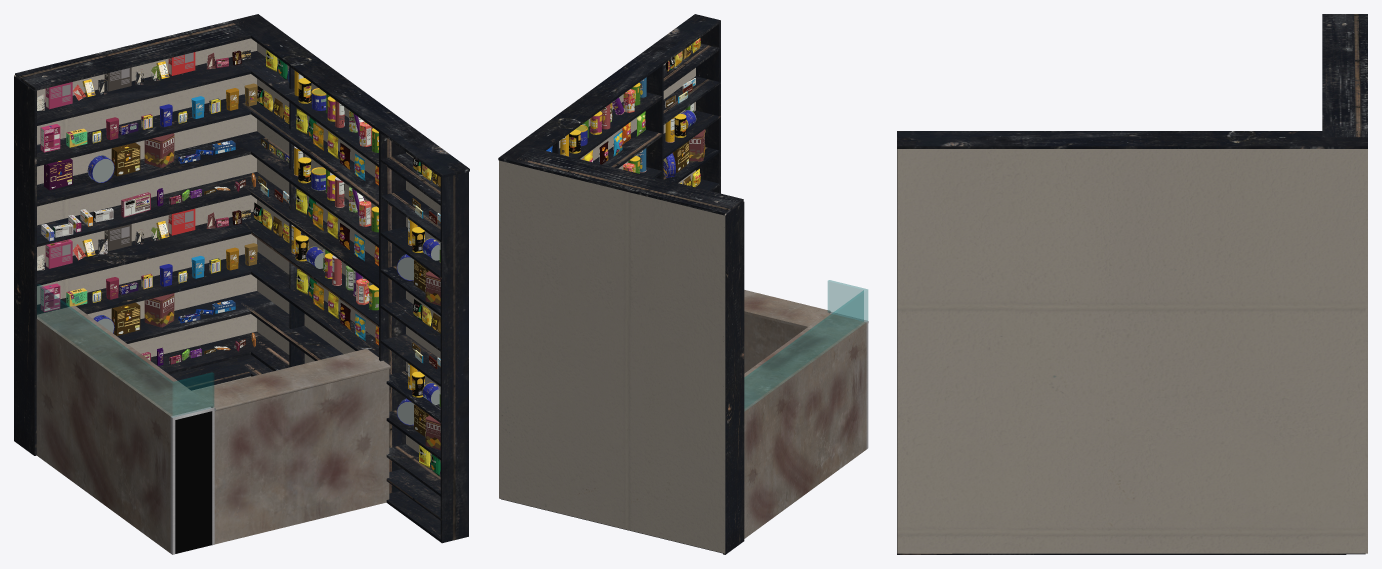
File: NEW COUNTER.fbx
3 views of the same model, side by side, from view 1: azimuth 30°, elevation 25°; view 2: azimuth 150°, elevation 25°; view 3: azimuth 270°, elevation 25° (orthographic). The views are drawn at different scales.
Visible parts, largest first — view 1: polySurface11, polySurface1, painted_desk, pCube3; view 2: pCube3, polySurface11, polySurface1, painted_desk; view 3: pCube3, polySurface11.
Boxes of the visible parts, box(x1,y1,x2,y2) form: polySurface11: box(14, 14, 469, 543); polySurface1: box(36, 284, 390, 554); painted_desk: box(37, 50, 440, 475); pCube3: box(14, 38, 440, 462); pCube3: box(499, 44, 726, 553); polySurface11: box(498, 14, 744, 554); polySurface1: box(744, 280, 868, 538); painted_desk: box(546, 38, 705, 187); pCube3: box(897, 149, 1367, 553); polySurface11: box(897, 14, 1367, 554).
Bounding box in the file's own units: 2.15 × 3.1 × 3.23.
Materials: 8 (6 with a texture image).
